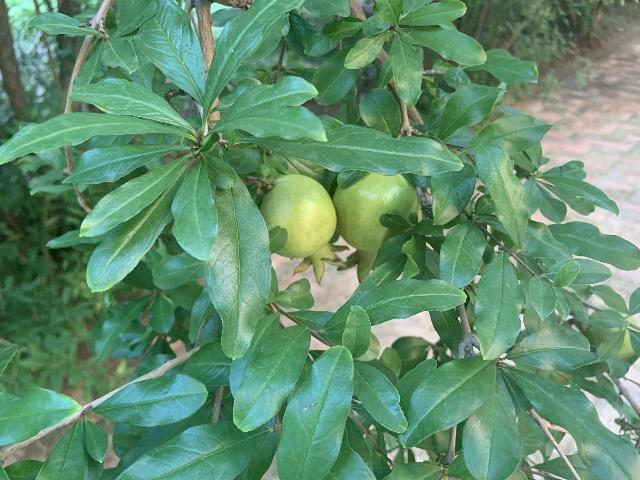mid-growth: (260, 174, 349, 285), (332, 173, 421, 283)
